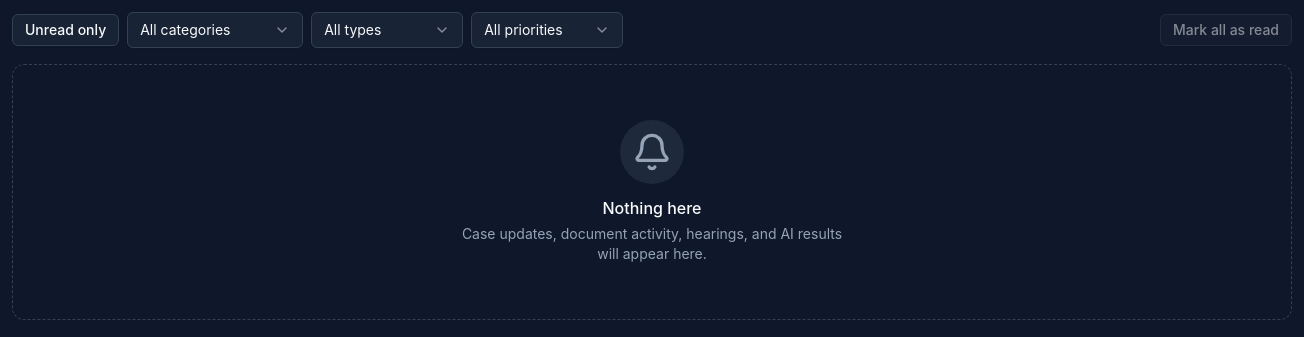
it: NotificationFeed › shows a distinct empty state when the filters match nothing
Expected: the text "Case updates, document activity" is shown, [462,225,842,262]
What coordinates should you click on to do the following:
click the button "Unread only"
I would click on:
 (66, 30)
Its box is [12,14,119,46].
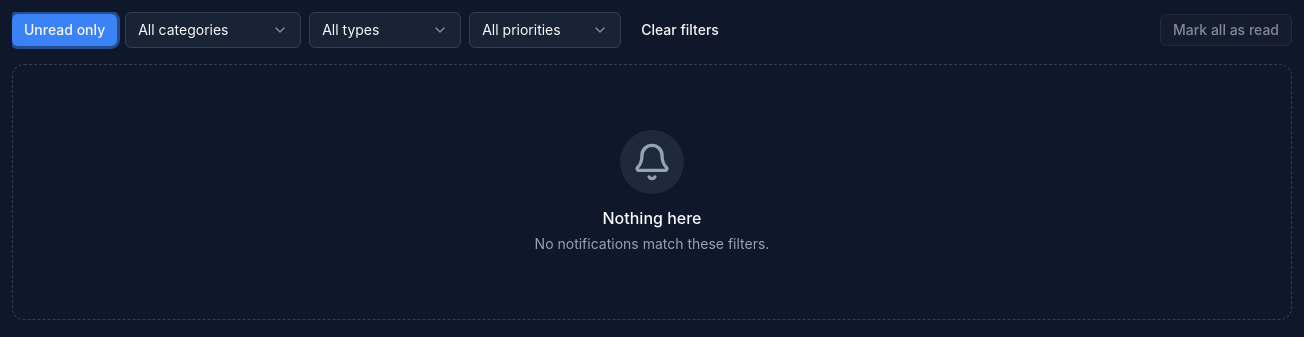
Now the text "No notifications match these filters." is shown, box [535,234,769,254]
